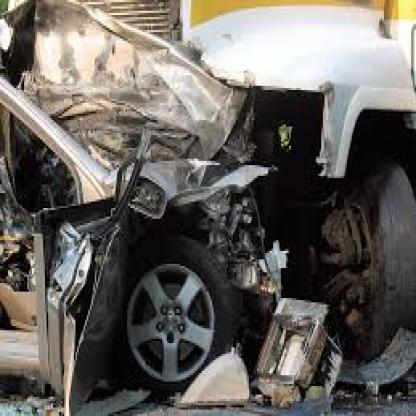accident: (0, 1, 410, 401)
